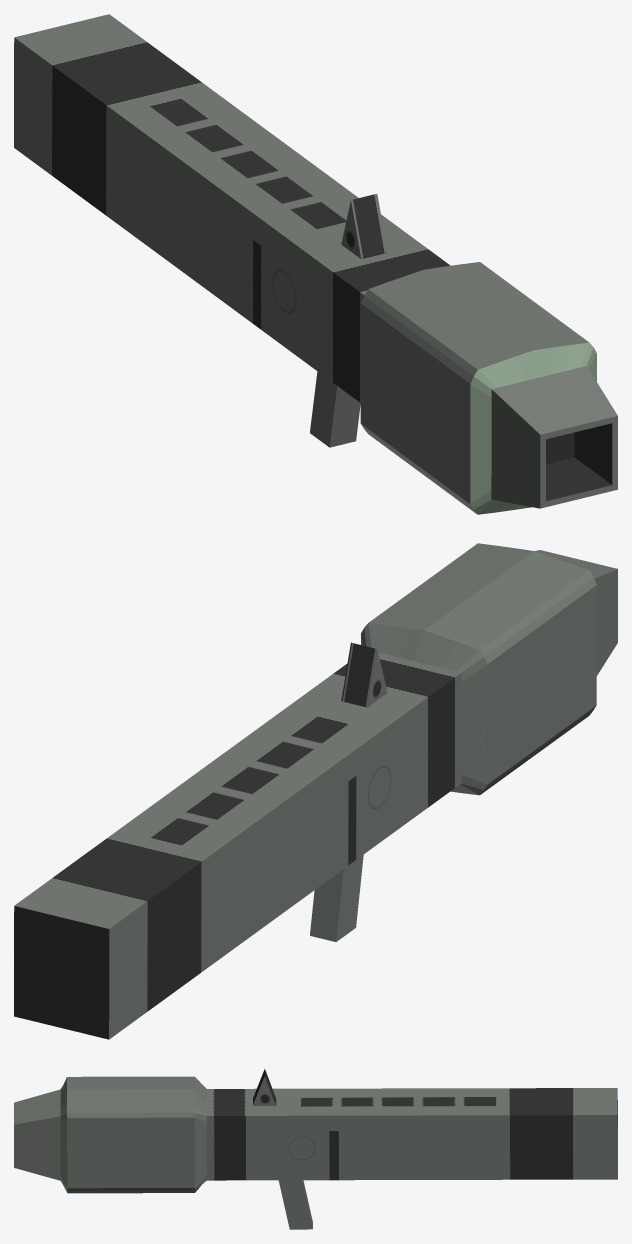
File: バズーカ.fbx
The picture shows the model from 3 angles, top to bottom: view 1: azimuth 30°, elevation 25°; view 2: azimuth 150°, elevation 25°; view 3: azimuth 270°, elevation 25°; orthographic projection. The views are drawn at different scales.
Visible parts, largest first — view 1: Cube; view 2: Cube; view 3: Cube.
Part boxes in pixels (x1,y1,x2,y2): Cube: (14,14,617,514); Cube: (14,543,617,1039); Cube: (14,1069,617,1229).
Bounding box in the file's own units: 240 × 476 × 1697.
Materials: 1 (1 with a texture image).
